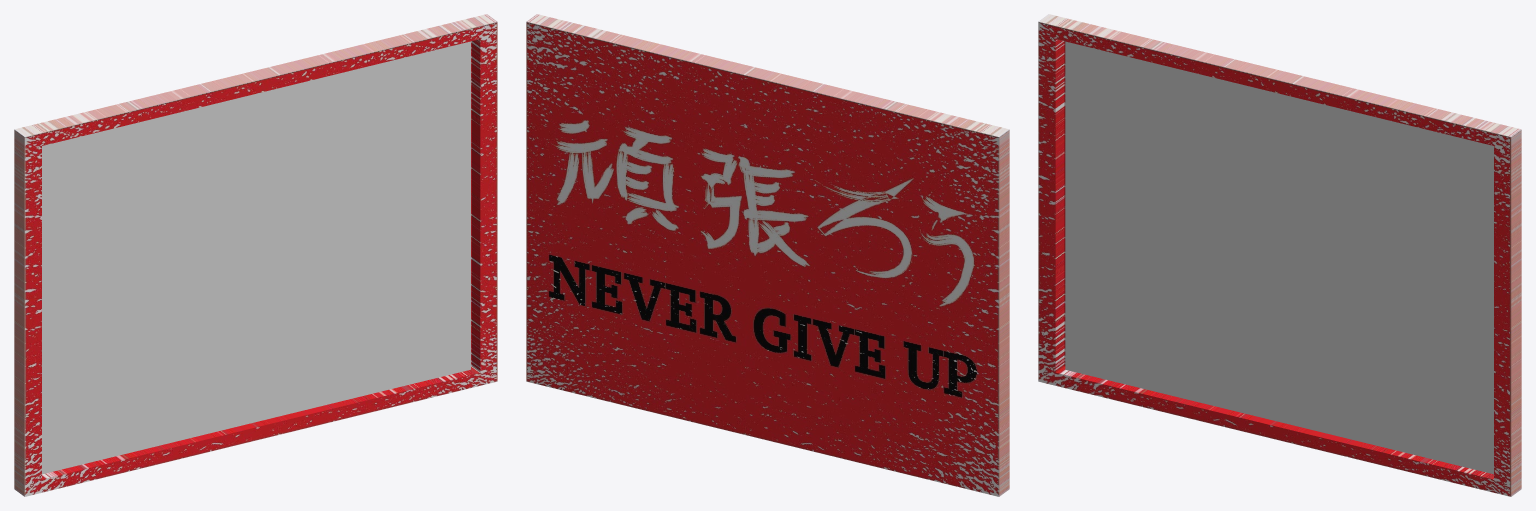
The model's file is finalCanvas.glb.
3 renders of one model, left to right at view 1: azimuth 30°, elevation 25°; view 2: azimuth 150°, elevation 25°; view 3: azimuth 330°, elevation 25°, orthographic.
Parts seen in each view (by area): view 1: Plane.001, Plane; view 2: Plane; view 3: Plane.001, Plane.
Boxes of the visible parts, x1,y1,x2,y2 form: Plane.001: (42, 41, 470, 474); Plane: (14, 14, 497, 496); Plane: (526, 14, 1009, 496); Plane.001: (1065, 41, 1493, 474); Plane: (1038, 14, 1521, 496).
Bounding box in the file's own units: 2.2 × 1.6 × 0.0847.
1 material, 1 textured.
